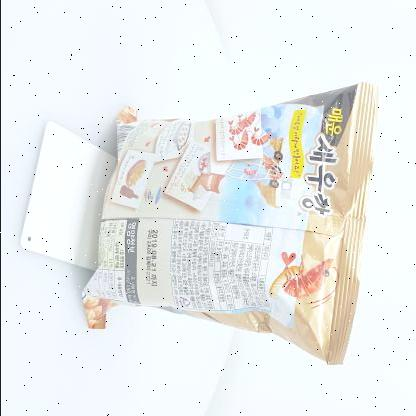Others: (75, 79, 385, 369)
